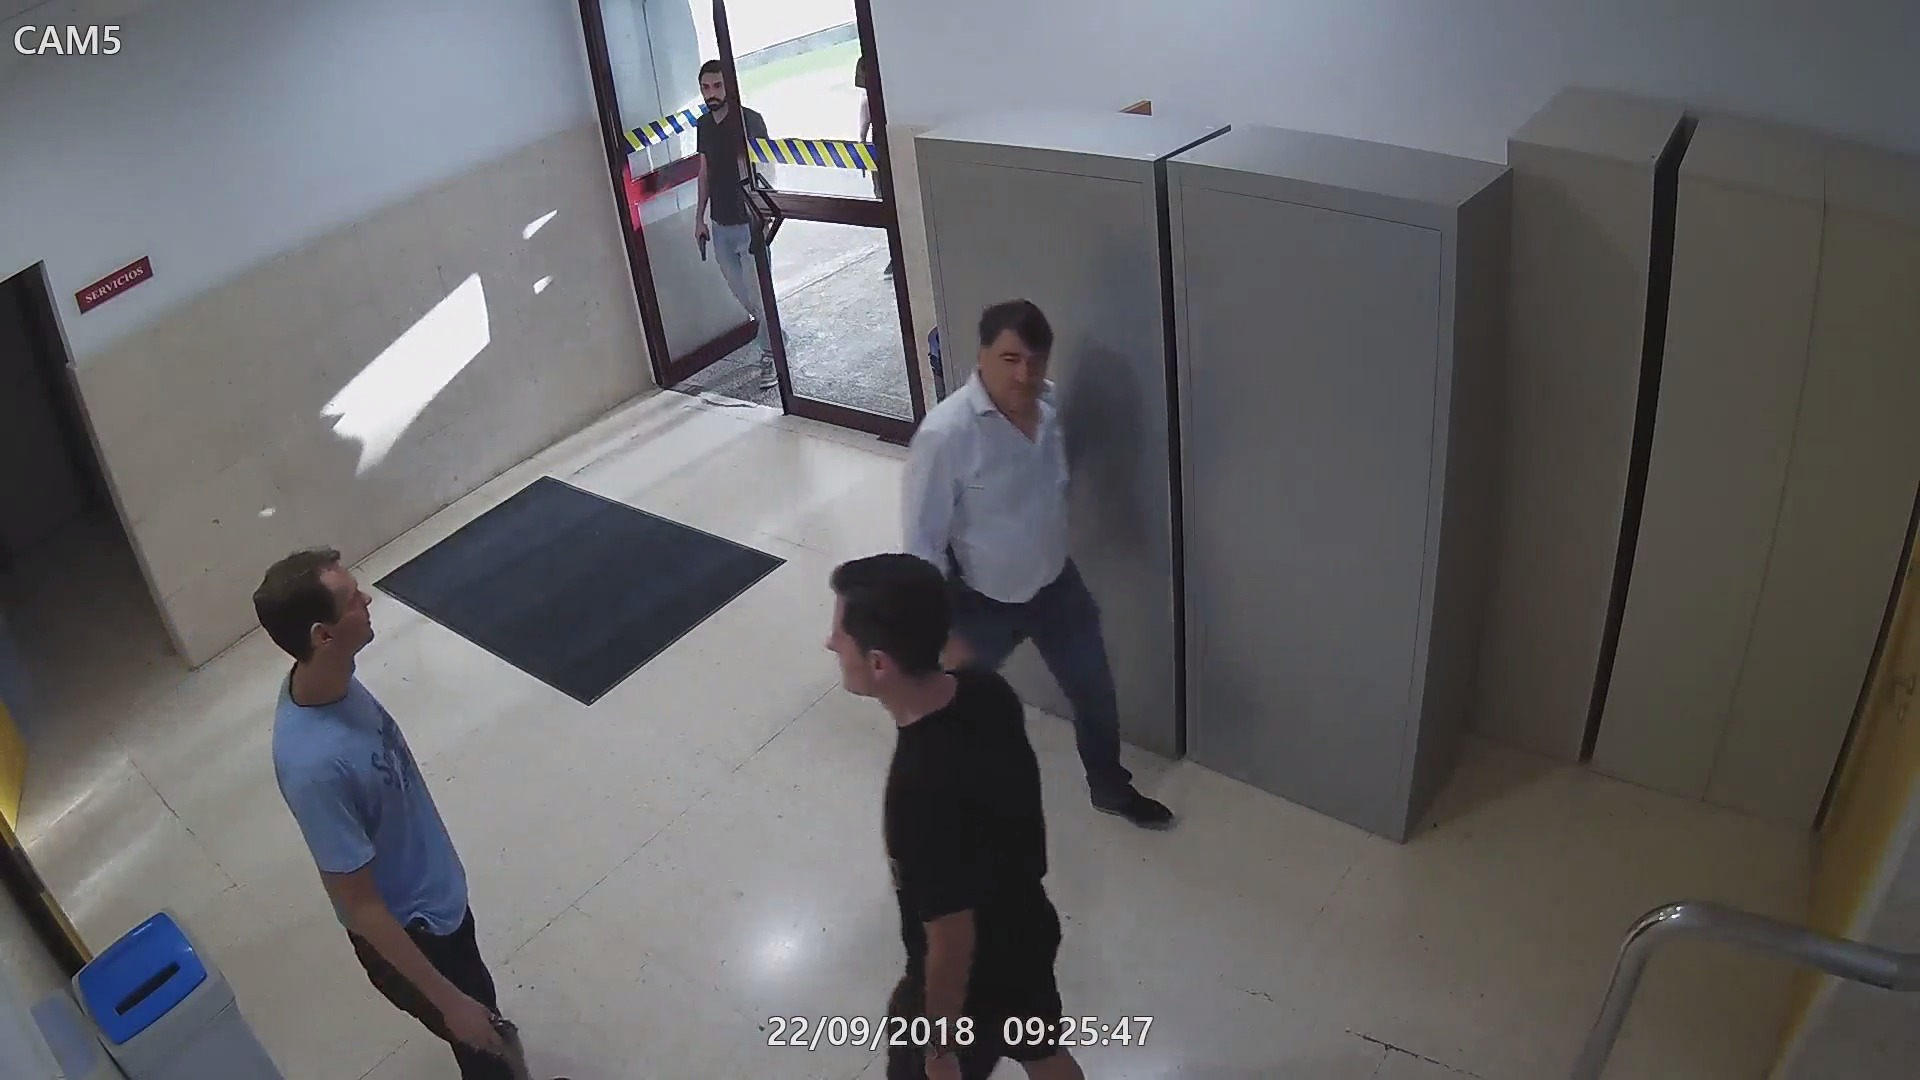Handgun: (439, 990, 538, 1080), (944, 535, 971, 589), (690, 219, 716, 264)
